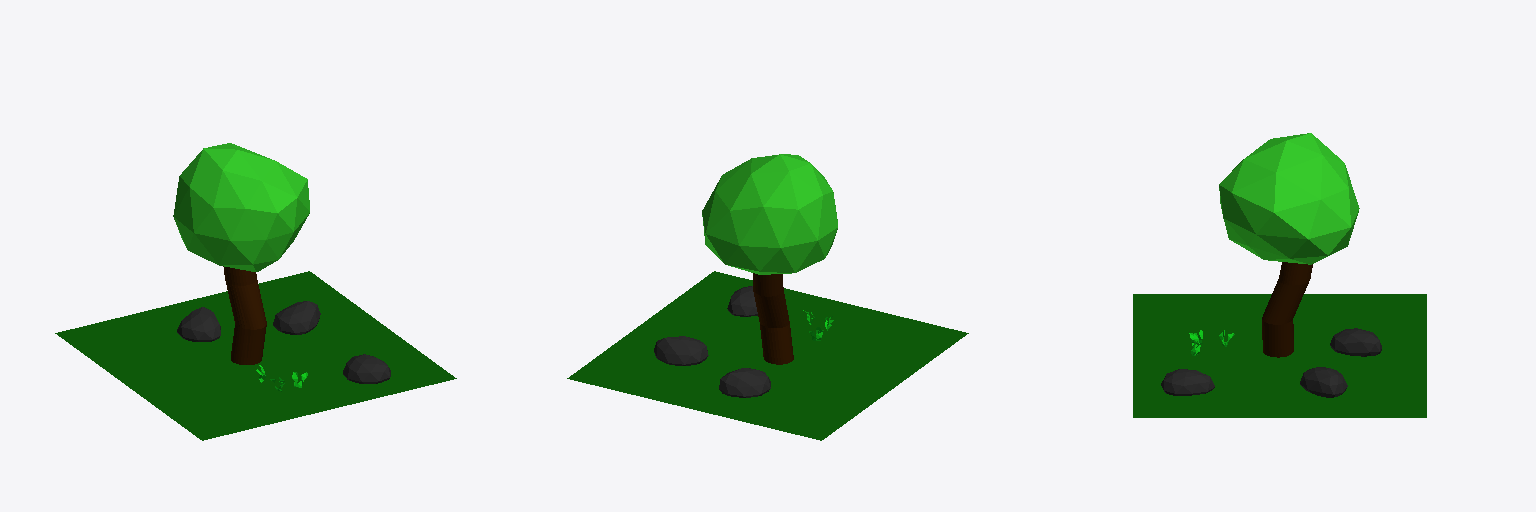
The model's file is Tree.obj.
3 renders of one model, left to right at view 1: azimuth 30°, elevation 25°; view 2: azimuth 150°, elevation 25°; view 3: azimuth 270°, elevation 25°, orthographic.
Parts seen in each view (by area): view 1: Plane, Icosphere, Cylinder, Icosphere.002, Icosphere.003, Icosphere.001; view 2: Plane, Icosphere, Cylinder, Icosphere.002, Icosphere.003, Icosphere.001; view 3: Plane, Icosphere, Cylinder, Icosphere.003, Icosphere.001, Icosphere.002.
Part boxes in pixels (left/top/right/bottom): Plane: left=55, top=271, right=456, bottom=440; Icosphere: left=173, top=143, right=309, bottom=271; Cylinder: left=223, top=266, right=266, bottom=364; Icosphere.002: left=273, top=301, right=320, bottom=334; Icosphere.003: left=177, top=307, right=220, bottom=341; Icosphere.001: left=343, top=354, right=390, bottom=383; Plane: left=567, top=271, right=968, bottom=440; Icosphere: left=702, top=154, right=837, bottom=274; Cylinder: left=753, top=273, right=793, bottom=364; Icosphere.002: left=654, top=336, right=708, bottom=365; Icosphere.003: left=719, top=368, right=770, bottom=397; Icosphere.001: left=727, top=286, right=757, bottom=316; Plane: left=1133, top=294, right=1426, bottom=417; Icosphere: left=1219, top=133, right=1359, bottom=264; Cylinder: left=1262, top=262, right=1312, bottom=357; Icosphere.003: left=1330, top=328, right=1381, bottom=356; Icosphere.001: left=1161, top=369, right=1214, bottom=395; Icosphere.002: left=1300, top=367, right=1347, bottom=397.
Bounding box in the file's own units: 2 × 1.62 × 2.